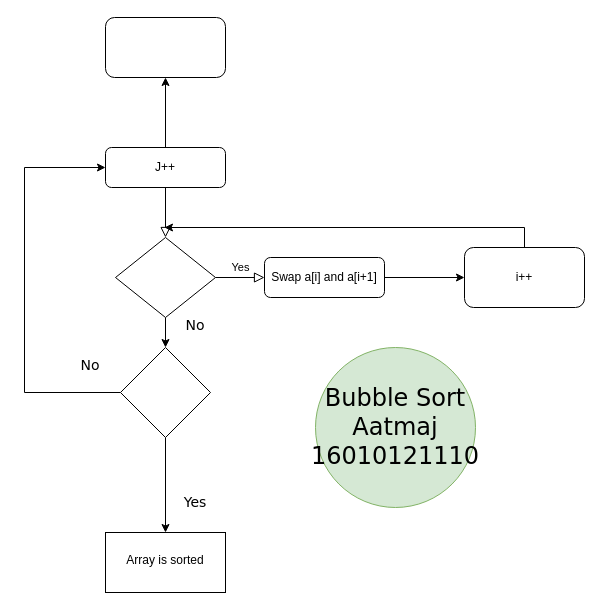
Some shapes in this 602 by 610 pixel diagram are drawn without their labels. The shapes that lost their labels are listed below. From the top down, each one's centre as x and y in pixels, then its label:
At pixel 165 47: "Take values from user of the array. J=0,".
At pixel 165 277: "If a[i] < a[i+1]".
At pixel 165 392: "J < length of array?".
